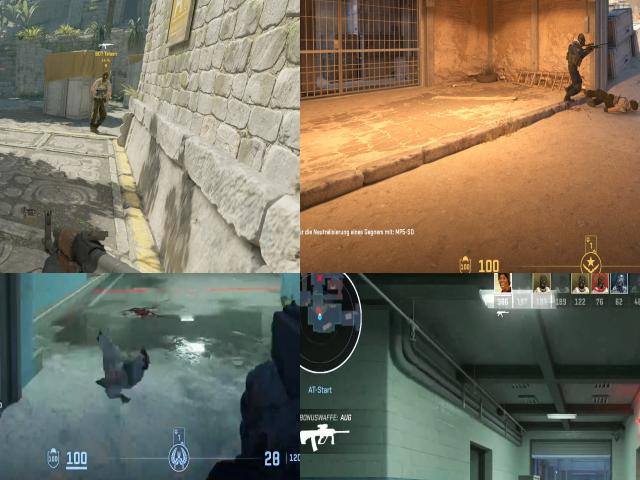Bomb: (15, 198, 40, 226)
CT: (566, 35, 590, 100)
CT-Head: (577, 34, 586, 46)
Dead: (581, 86, 640, 114)
T: (90, 65, 116, 134)
T-Head: (99, 69, 111, 86)
